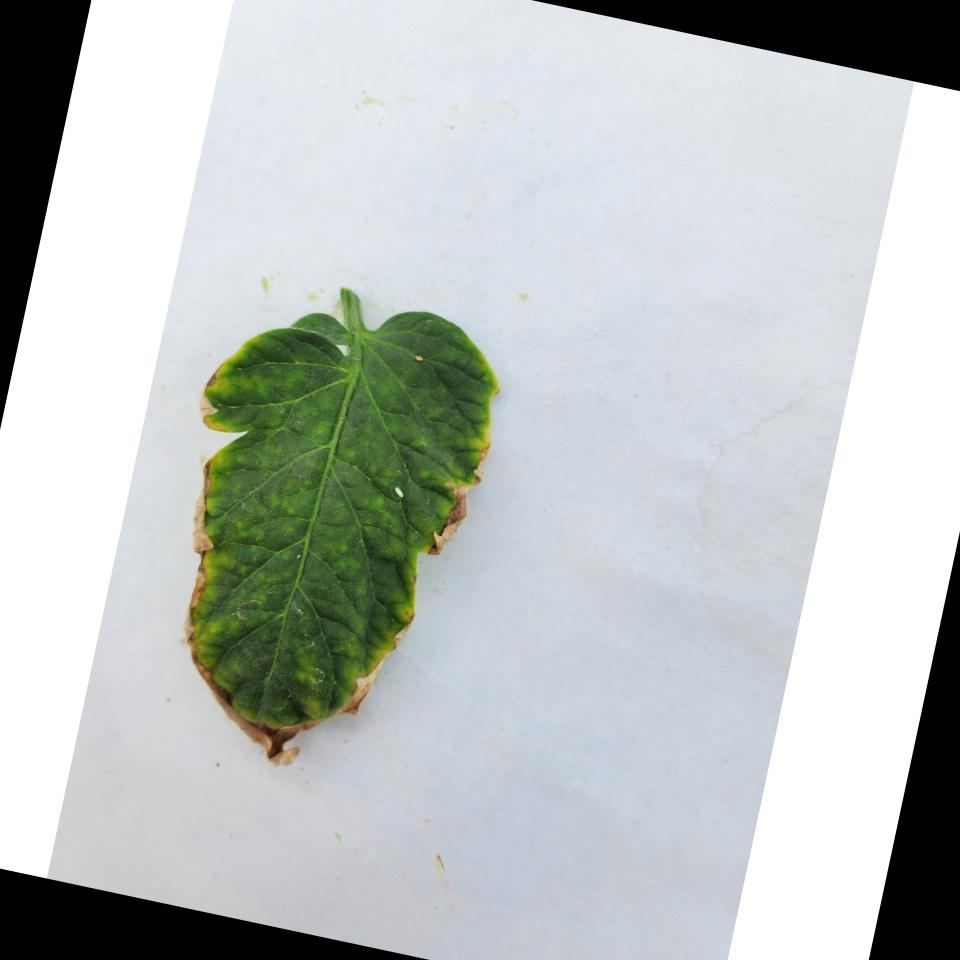tomato_bacterial_blight: (136, 252, 526, 794)
